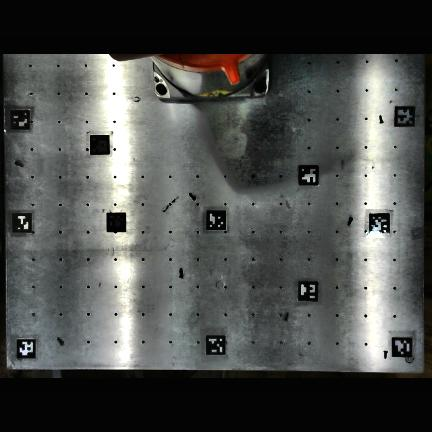black_screw: (15, 160, 24, 168), (348, 218, 354, 226), (188, 193, 196, 199), (383, 350, 387, 358), (178, 267, 181, 275), (379, 115, 382, 122), (284, 313, 287, 320), (60, 338, 63, 343)
marker: (394, 107, 415, 128), (12, 213, 32, 234), (370, 214, 390, 234), (299, 166, 319, 186), (298, 282, 318, 302), (206, 337, 226, 357), (10, 111, 29, 132), (207, 210, 226, 231), (392, 338, 412, 357), (17, 339, 36, 359), (107, 213, 126, 232), (90, 136, 109, 154)
